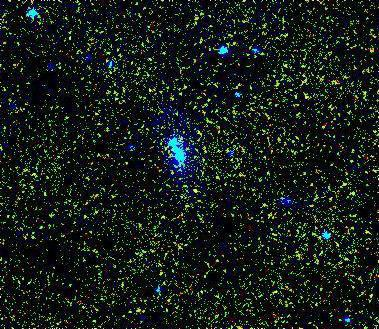star: (181, 180, 211, 210)
